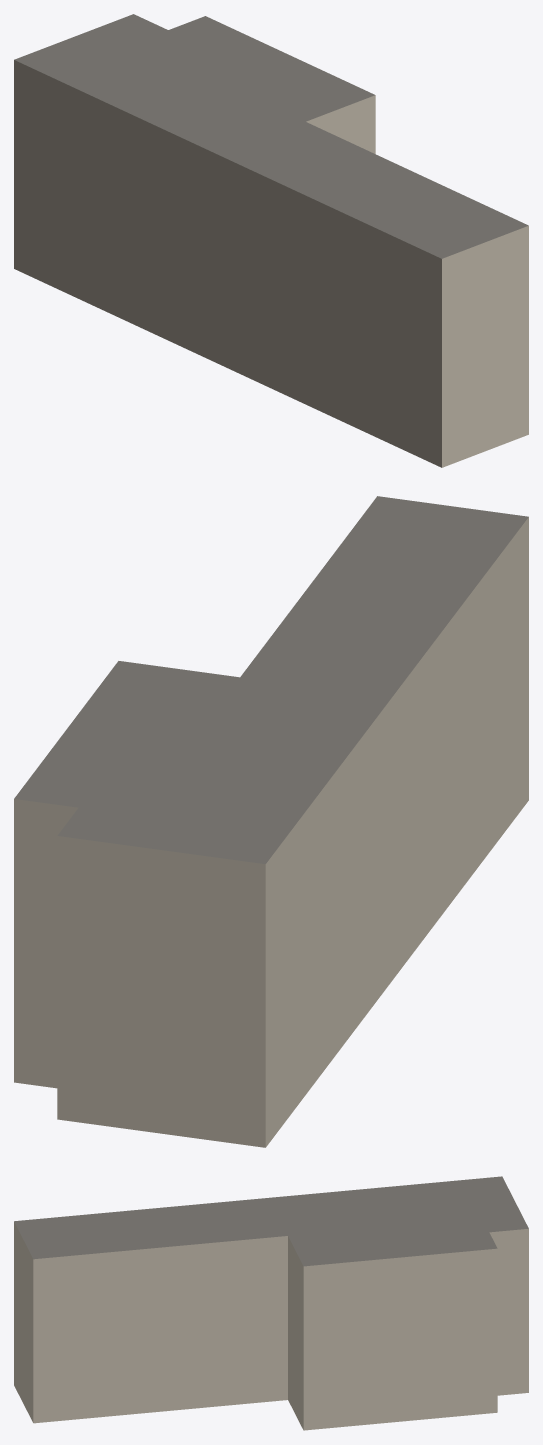
3 views of the same model, one above another, from view 1: azimuth 30°, elevation 25°; view 2: azimuth 150°, elevation 25°; view 3: azimuth 270°, elevation 25° (orthographic). The views are drawn at different scales.
Visible parts, largest first — view 1: HP-w702173490; view 2: HP-w702173490; view 3: HP-w702173490.
Part boxes in pixels (x1,y1,x2,y2): HP-w702173490: (14,14,528,467); HP-w702173490: (14,496,528,1147); HP-w702173490: (14,1176,528,1430).
Size of the model in its own units: 21.18 by 18 by 51.19.
